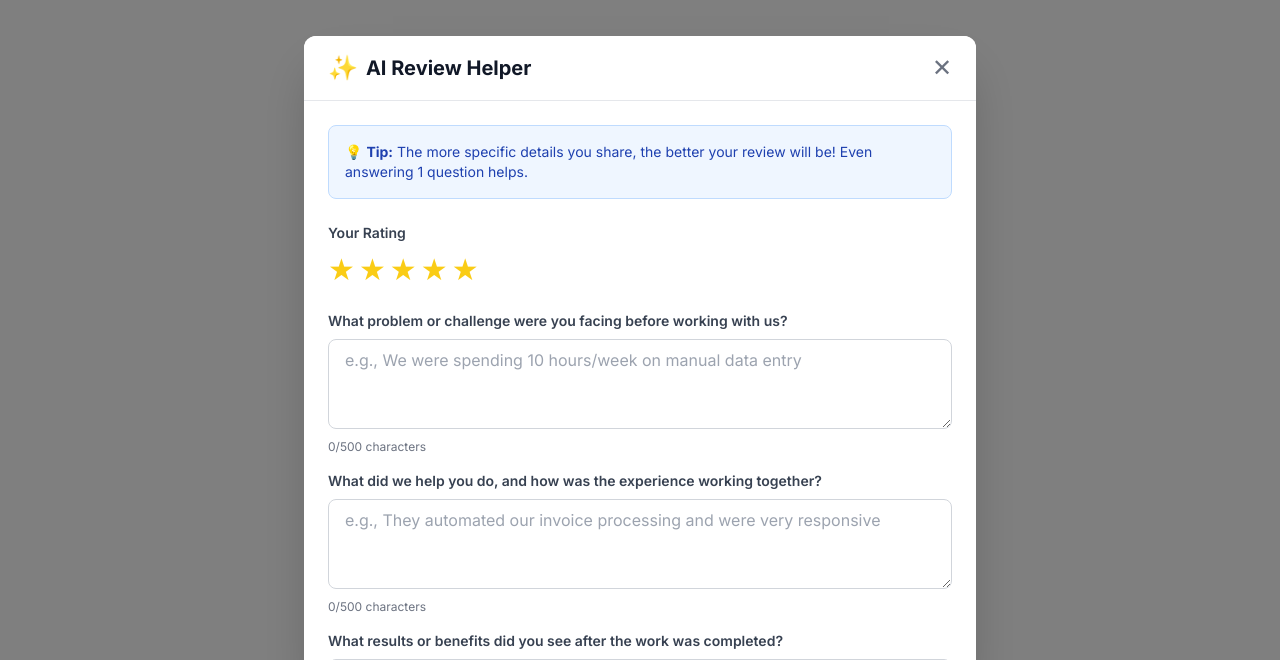
AIReviewHelper › Form Input › should show character count for each field
The width and height of the screenshot is (1280, 660).
In the text box with placeholder "e.g., We were spending 10 hours/week on manual data entry": (640, 384) x1=328 y1=339 x2=952 y2=429, type "Hello"
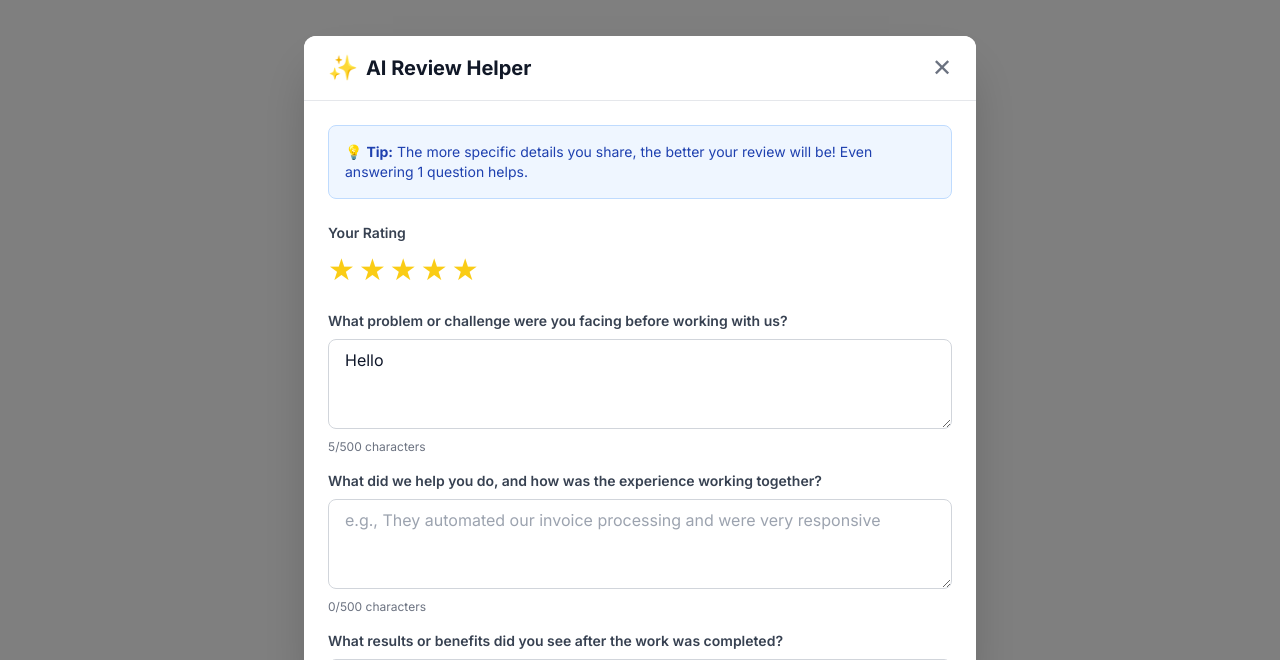
Result: the text "5/500 characters" is shown at x1=328 y1=439 x2=426 y2=454
